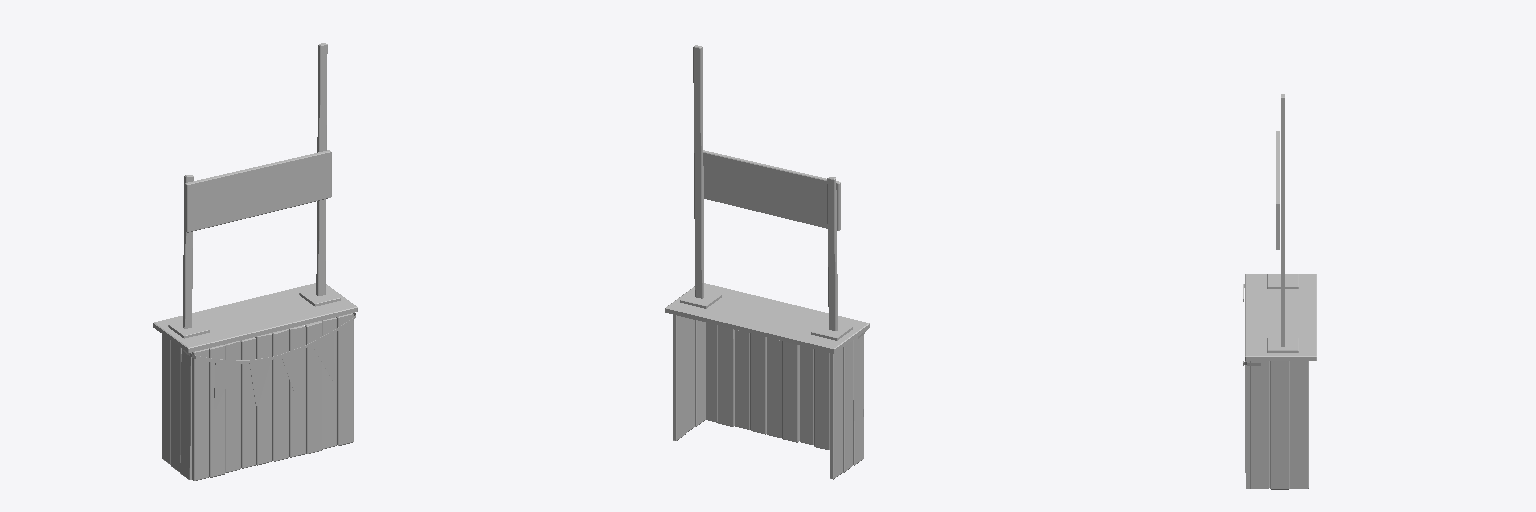
Rendered from Stand.obj.
3 renders of one model, left to right at view 1: azimuth 30°, elevation 25°; view 2: azimuth 150°, elevation 25°; view 3: azimuth 270°, elevation 25°, orthographic.
Visible parts, largest first — view 1: Stand.obj; view 2: Stand.obj; view 3: Stand.obj.
Boxes of the visible parts, <box> form: Stand.obj: <box>153,43,357,480</box>; Stand.obj: <box>665,45,869,479</box>; Stand.obj: <box>1243,94,1316,489</box>.
Bounding box in the file's own units: 9.21 × 20.12 × 3.44.